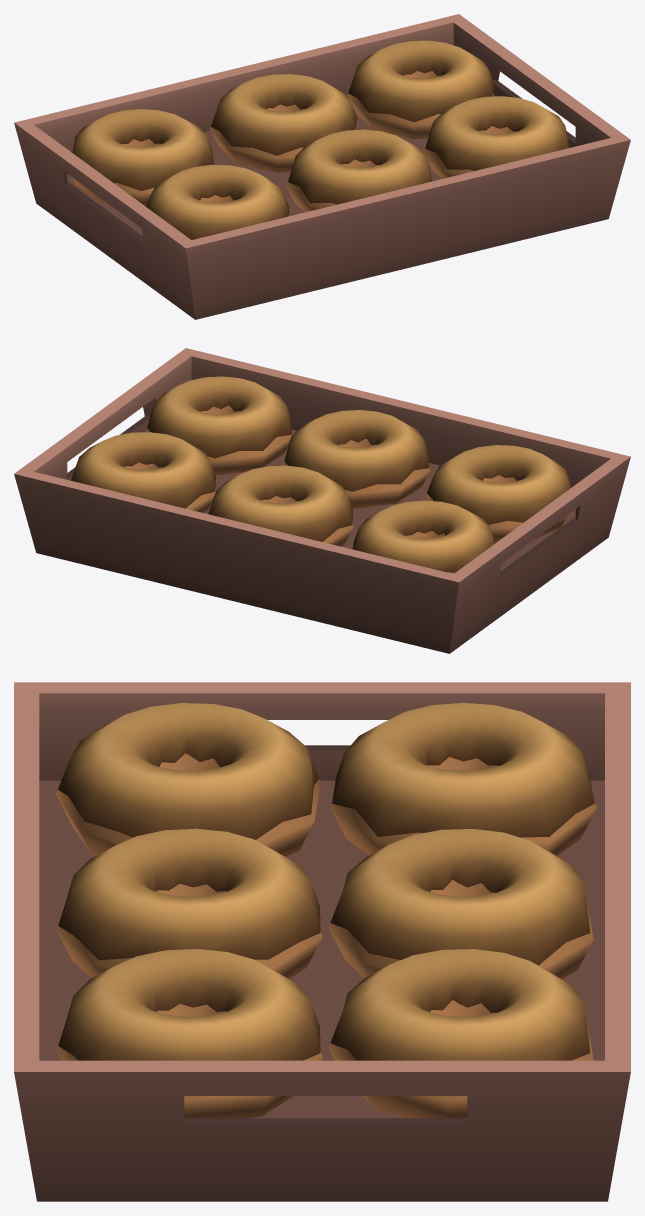
File: Donuts.fbx
3 renders of one model, top to bottom at view 1: azimuth 30°, elevation 25°; view 2: azimuth 150°, elevation 25°; view 3: azimuth 270°, elevation 25°, orthographic. The views are drawn at different scales.
Parts seen in each view (by area): view 1: Plane.007, Torus.005, Torus.008, Torus.004, Torus.007, Torus.009, Torus.006; view 2: Plane.007, Torus.007, Torus.009, Torus.006, Torus.005, Torus.008, Torus.004; view 3: Plane.007, Torus.004, Torus.006, Torus.007, Torus.005, Torus.009, Torus.008.
Boxes of the visible parts, x1,y1,x2,y2 form: Plane.007: (14, 14, 630, 319); Torus.005: (210, 74, 357, 172); Torus.008: (347, 40, 494, 139); Torus.004: (72, 109, 214, 206); Torus.007: (286, 129, 432, 212); Torus.009: (423, 96, 569, 178); Torus.006: (146, 164, 289, 239); Plane.007: (14, 348, 630, 653); Torus.007: (282, 410, 430, 508); Torus.009: (145, 376, 292, 475); Torus.006: (425, 445, 572, 542); Torus.005: (208, 465, 353, 546); Torus.008: (71, 432, 215, 512); Torus.004: (352, 500, 495, 573); Plane.007: (14, 682, 630, 1201); Torus.004: (330, 702, 596, 855); Torus.006: (55, 703, 321, 857); Torus.007: (56, 828, 322, 978); Torus.005: (328, 829, 593, 978); Torus.009: (56, 949, 322, 1118); Torus.008: (328, 949, 593, 1118).
Size of the model in its own units: 23.03 by 4.28 by 15.41.
